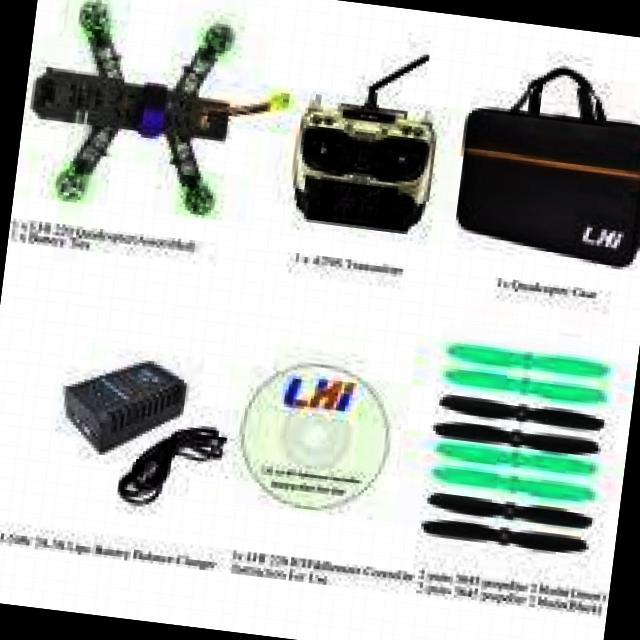drone: (11, 0, 296, 240)
